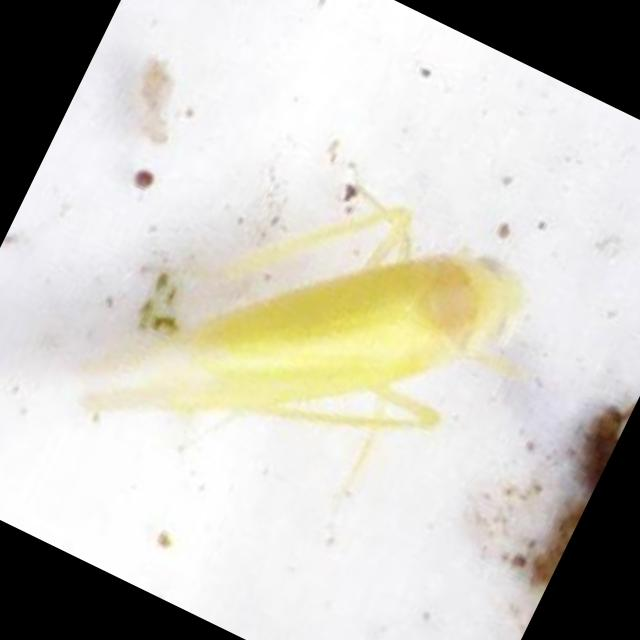green-leafhopper: (78, 205, 525, 508)
